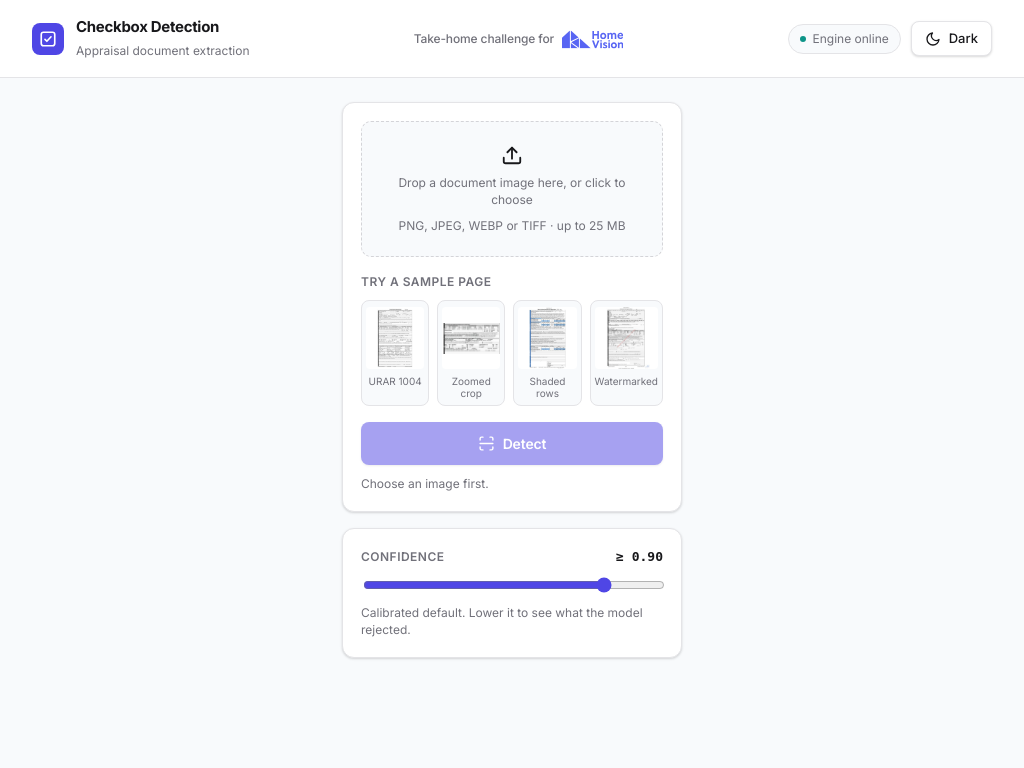
Test: sample pages › loads a page without detecting it
Click the button named "red watermark".
click(626, 353)  # box [590,300,663,406]
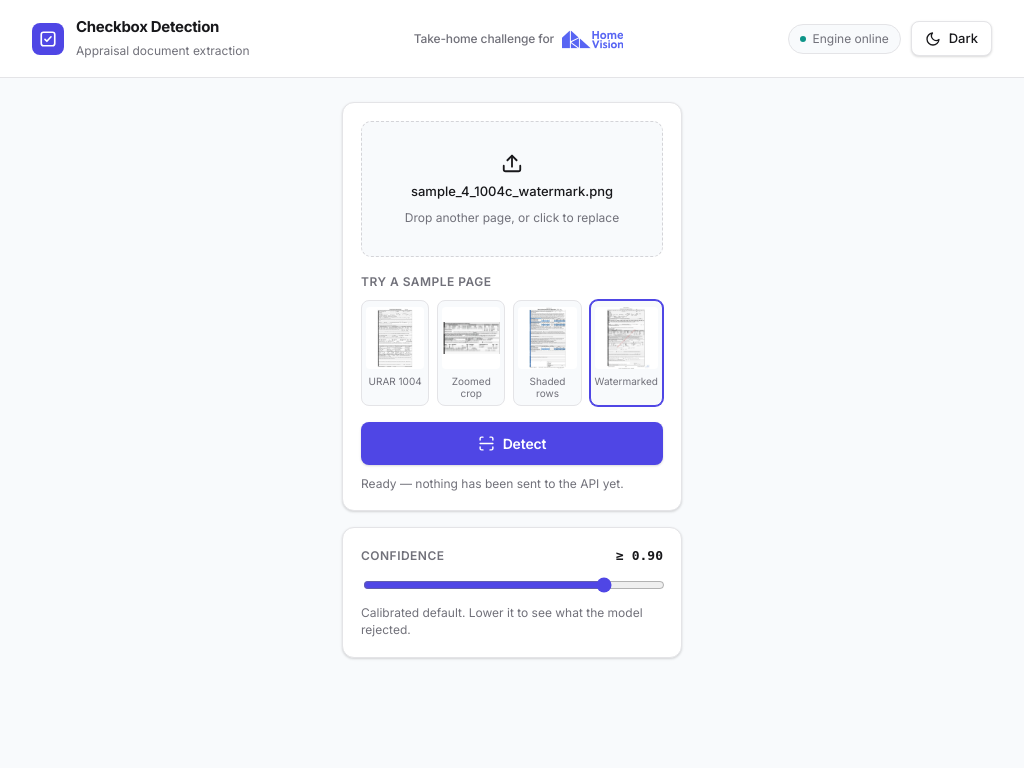
Check: the text "sample_4_1004c_watermark.png" is shown, box [411,182,613,201]
Check: the button "Detect" is enabled, box [361,422,663,465]
